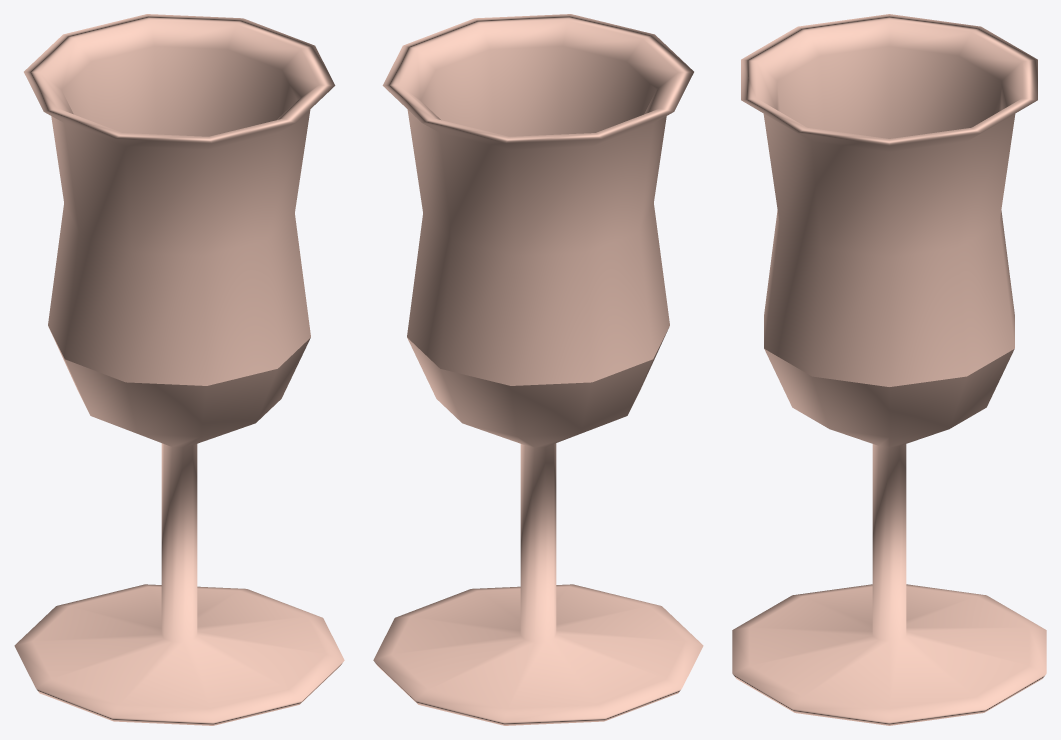
File: fbx_taça.fbx
The picture shows the model from 3 angles, left to right: view 1: azimuth 30°, elevation 25°; view 2: azimuth 150°, elevation 25°; view 3: azimuth 270°, elevation 25°; orthographic projection.
Visible parts, largest first — view 1: copo_3:pCylinder4; view 2: copo_3:pCylinder4; view 3: copo_3:pCylinder4.
Part boxes in pixels (<box>): copo_3:pCylinder4: <box>14,14,344,725</box>; copo_3:pCylinder4: <box>373,14,703,725</box>; copo_3:pCylinder4: <box>732,14,1046,725</box>.
Size of the model in its own units: 8.33 by 16.06 by 7.92.
1 material, 1 textured.
